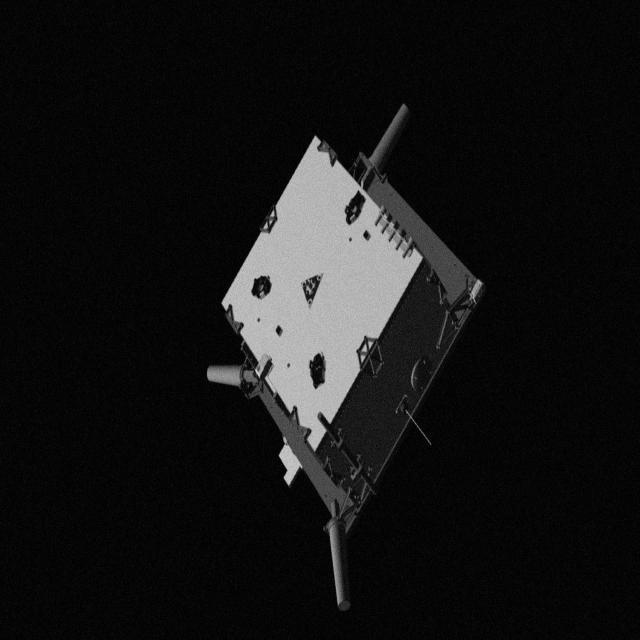satellite: (204, 102, 494, 612)
